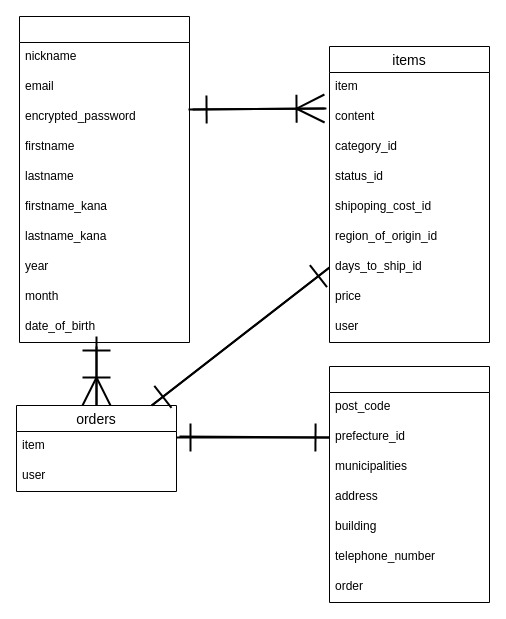
This 506x619 diagram has some shape labels left out. Each missing label, with the box of its shape:
addresses: (328, 366, 490, 602)
users: (18, 16, 190, 342)
